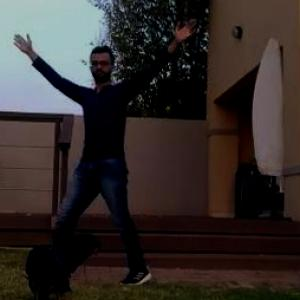takeoff: (11, 18, 195, 292)
